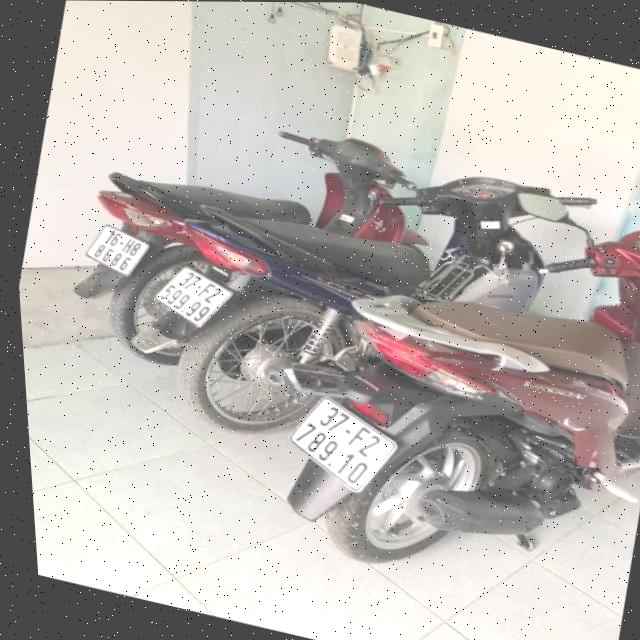motorcycle: (105, 93, 625, 508), (240, 133, 640, 631), (43, 73, 467, 422)
plate: (271, 383, 409, 502), (148, 252, 247, 337), (75, 216, 158, 283)
